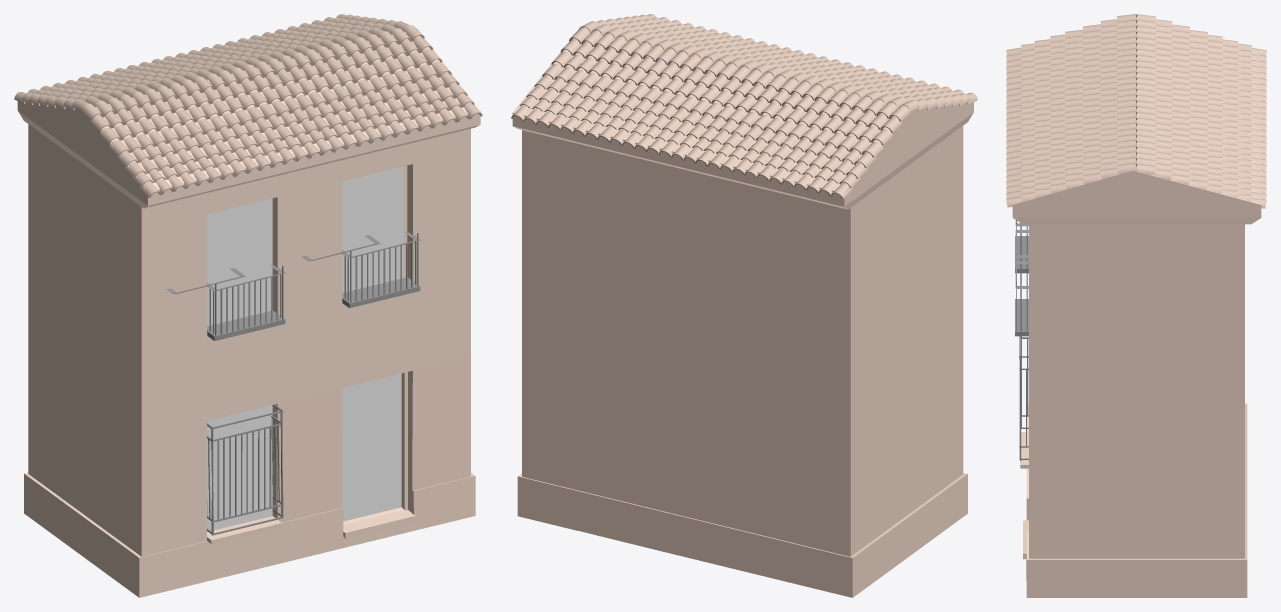
File: casasimp.fbx
The picture shows the model from 3 angles, left to right: view 1: azimuth 30°, elevation 25°; view 2: azimuth 150°, elevation 25°; view 3: azimuth 270°, elevation 25°; orthographic projection. The views are drawn at different scales.
Parts seen in each view (by area): view 1: edificio, teja22, valla1, valla; view 2: edificio, teja22; view 3: edificio, teja22, valla1, valla.
Part boxes in pixels (<box>): edificio: <box>17,18,480,597</box>; teja22: <box>14,14,482,197</box>; valla1: <box>342,277,420,308</box>; valla: <box>207,310,285,340</box>; edificio: <box>512,27,973,597</box>; teja22: <box>511,14,977,199</box>; edificio: <box>1012,17,1261,597</box>; teja22: <box>1006,14,1266,208</box>; valla1: <box>1015,299,1028,336</box>; valla: <box>1015,236,1028,273</box>.
Bounding box in the file's own units: 14.22 × 18.22 × 10.01.
